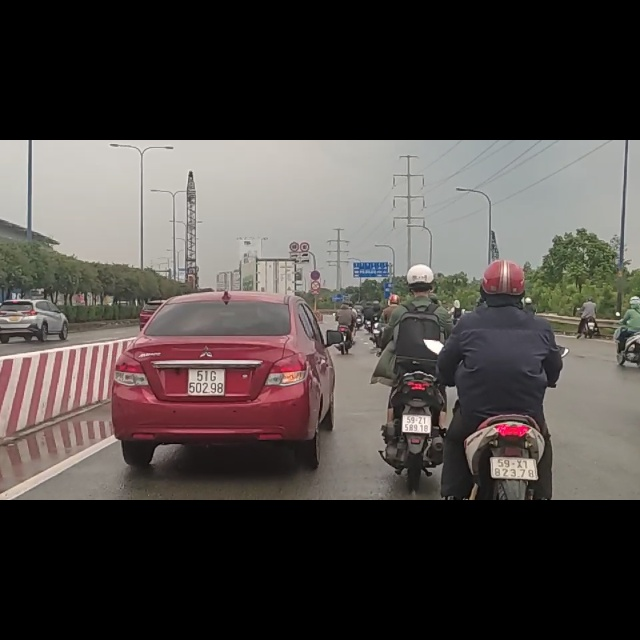bien_cam: (310, 231, 321, 249)
